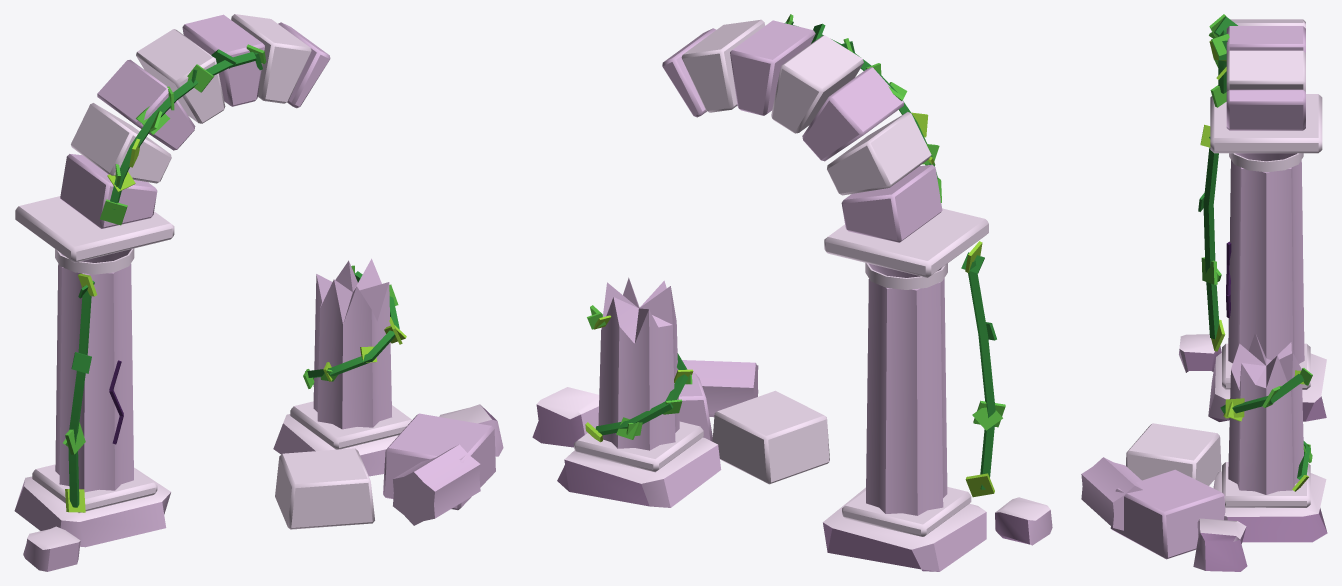
Rendered from me_arch.glb.
The picture shows the model from 3 angles, left to right: view 1: azimuth 30°, elevation 25°; view 2: azimuth 150°, elevation 25°; view 3: azimuth 270°, elevation 25°; orthographic projection. The views are drawn at different scales.
Visible parts, largest first — view 1: me_arch; view 2: me_arch; view 3: me_arch.
Part boxes in pixels (x1=…): me_arch: x1=14, y1=14, x2=503, y2=571; me_arch: x1=532, y1=14, x2=1052, y2=571; me_arch: x1=1081, y1=14, x2=1327, y2=571.
Bounding box in the file's own units: 5.5 × 5.13 × 2.64.
1 material, 1 textured.
